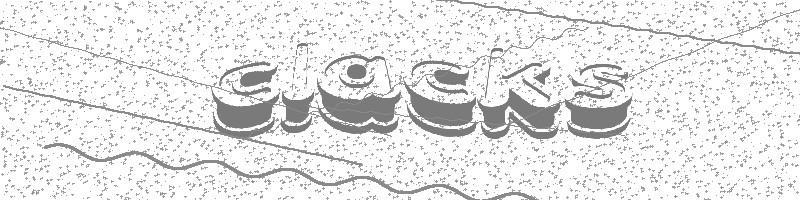a: (315, 51, 403, 136)
c: (404, 55, 479, 139), (207, 54, 280, 140)
k: (478, 44, 561, 143)
l: (278, 39, 319, 136)
s: (561, 59, 635, 143)
